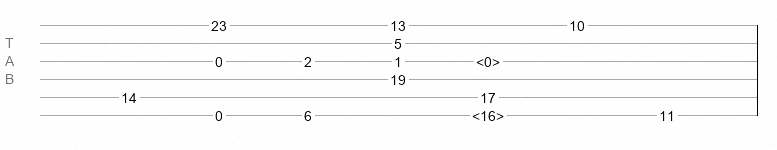0: (215, 108, 223, 118), (215, 54, 223, 64)
1: (394, 54, 402, 64)
10: (569, 18, 585, 28)
11: (659, 108, 675, 118)
13: (390, 18, 406, 28)
14: (121, 90, 137, 100)
17: (480, 90, 496, 100)
19: (390, 72, 406, 82)
2: (304, 54, 312, 64)
23: (211, 18, 227, 28)
5: (394, 36, 402, 46)
6: (304, 108, 312, 118)
harmonic: (472, 108, 504, 118), (476, 54, 500, 64)
